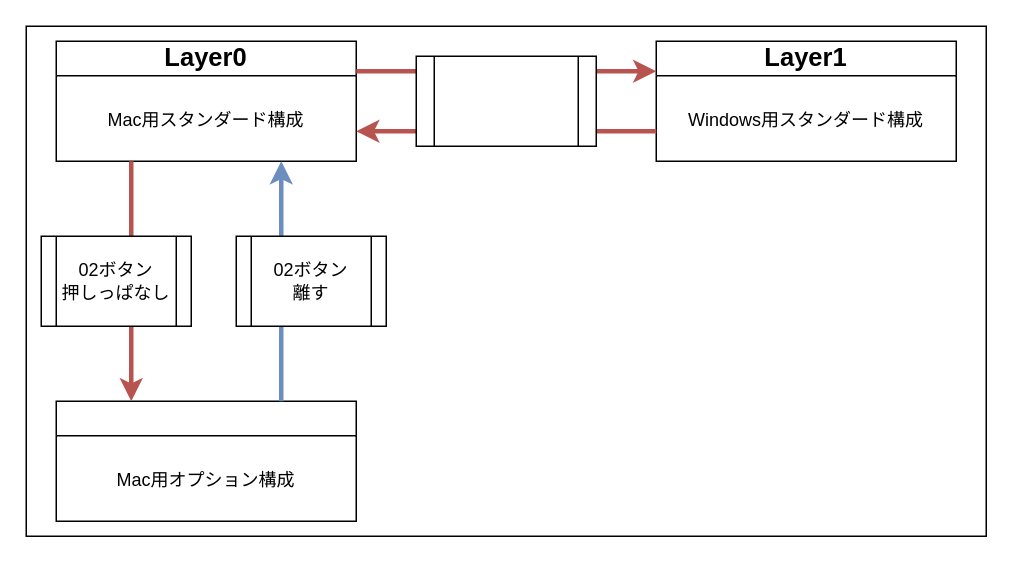
The diagram is 1013 pixels wide and 563 high, and some of its shapes have lost their labels. Here are the shapes that lost their labels. From the top down, the box of each, then its label:
(415, 55, 596, 146): 02ボタン 短押し
(55, 400, 356, 521): Layer2
